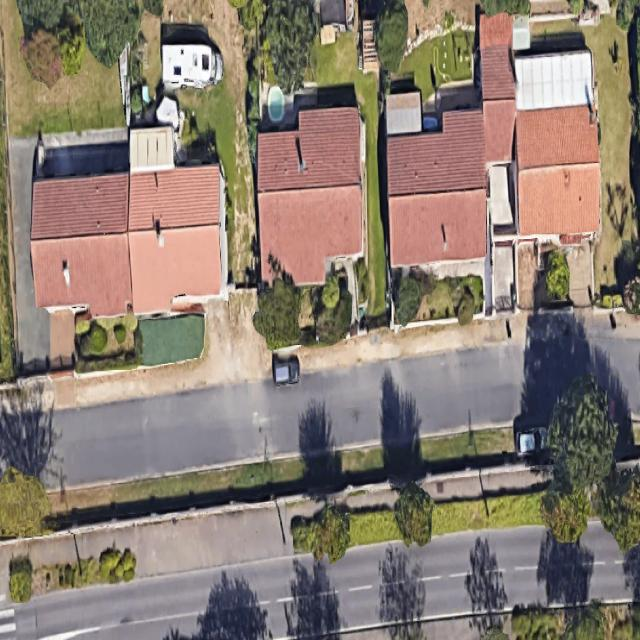maison: (255, 108, 363, 286), (382, 111, 491, 268), (28, 174, 131, 318), (127, 165, 221, 310), (516, 106, 600, 237), (478, 13, 518, 164)
